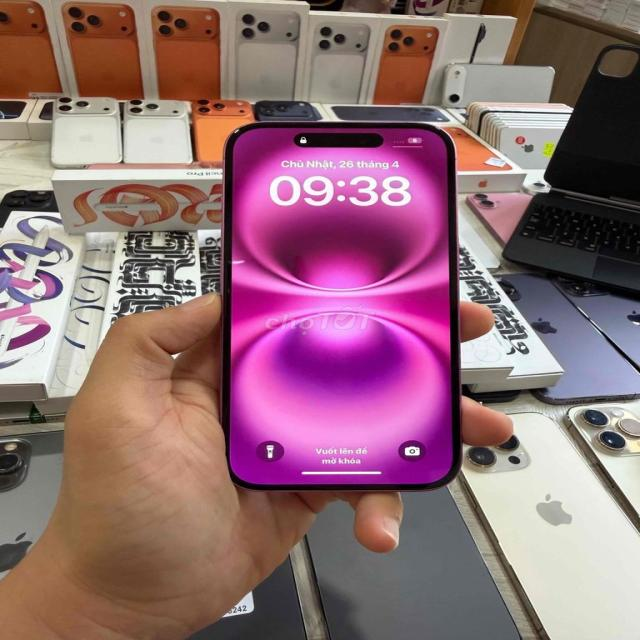gen_16: (211, 106, 481, 502)
